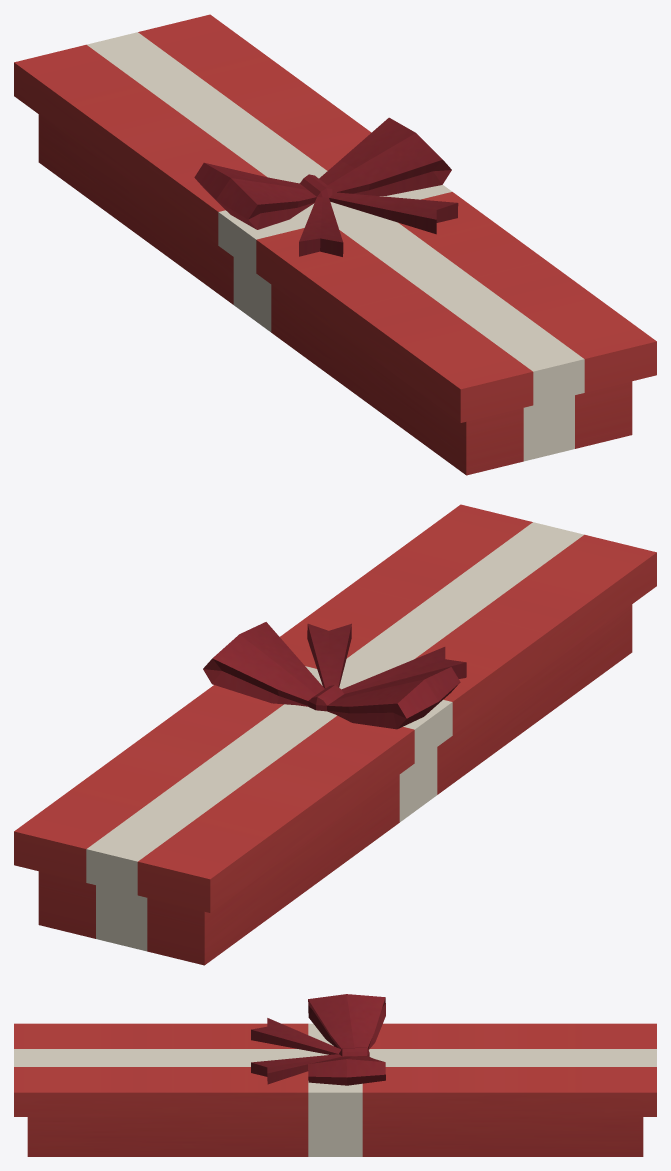
Rendered from gift_box_A_Long.obj.
The picture shows the model from 3 angles, top to bottom: view 1: azimuth 30°, elevation 25°; view 2: azimuth 150°, elevation 25°; view 3: azimuth 270°, elevation 25°; orthographic projection. The views are drawn at different scales.
Parts seen in each view (by area): view 1: gift_box_A_Long; view 2: gift_box_A_Long; view 3: gift_box_A_Long.
Part boxes in pixels (x1,y1,x2,y2): gift_box_A_Long: (14, 14, 656, 475); gift_box_A_Long: (14, 504, 656, 965); gift_box_A_Long: (14, 994, 656, 1156).
Bounding box in the file's own units: 0.3032 × 0.1874 × 1.09.
